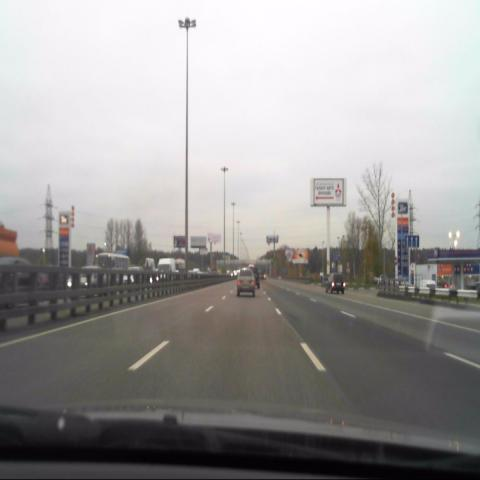5_15_7: (404, 234, 420, 249)
